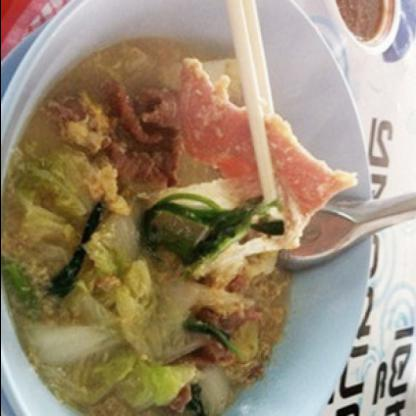Suki: (0, 20, 356, 416)
